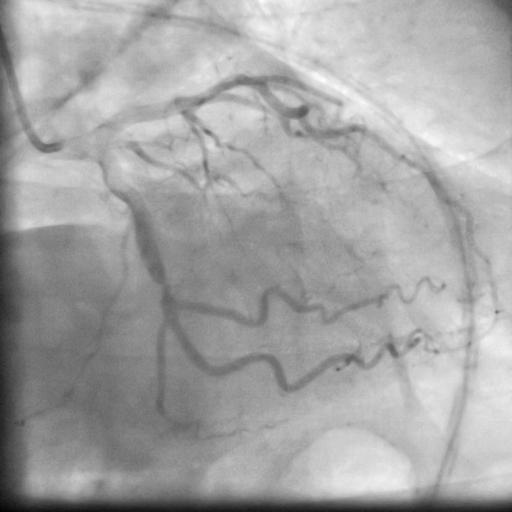Stenosis: (153, 277, 170, 294)
